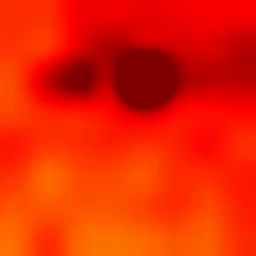person: (62, 48, 184, 109)
